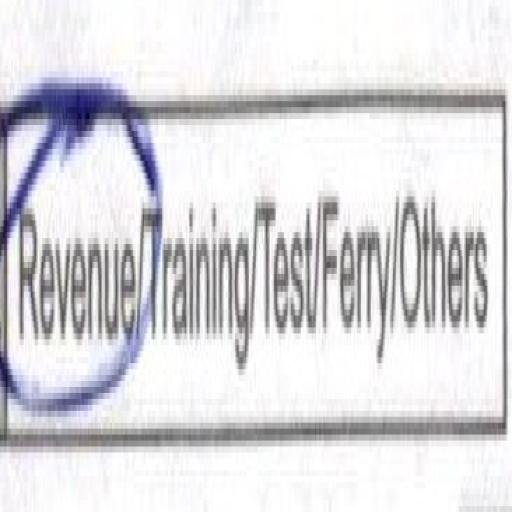check: (1, 10, 160, 434)
